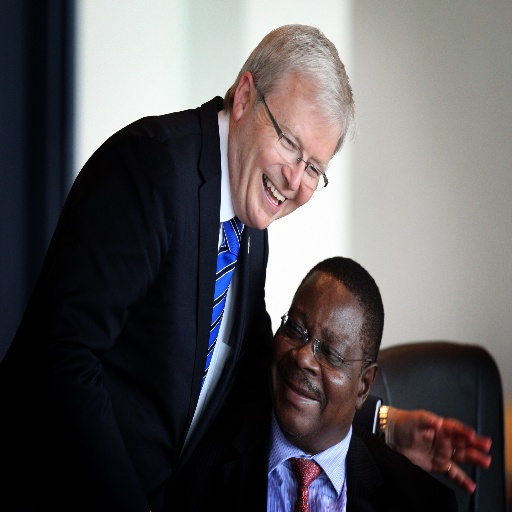hand: (392, 406, 492, 496)
